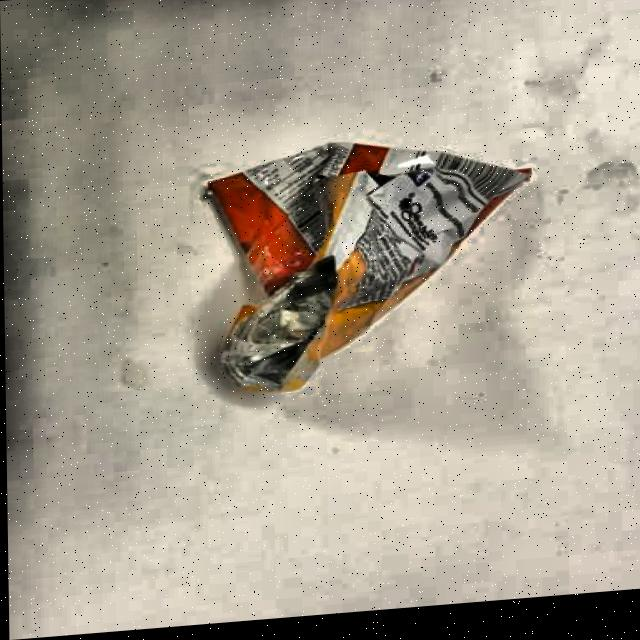plastic: (132, 85, 590, 428)
